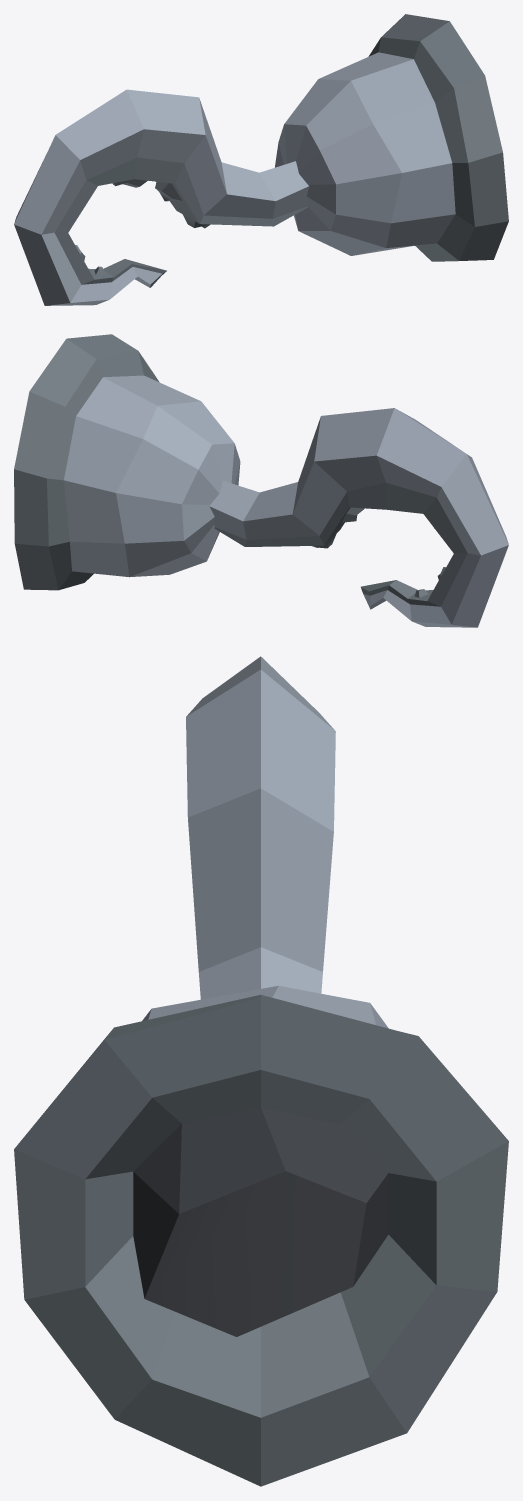
Rendered from SM_Chr_Attach_Hook_01.fbx.
The picture shows the model from 3 angles, top to bottom: view 1: azimuth 30°, elevation 25°; view 2: azimuth 150°, elevation 25°; view 3: azimuth 270°, elevation 25°; orthographic projection. The views are drawn at different scales.
Parts seen in each view (by area): view 1: SM_Chr_Attach_Hook_01; view 2: SM_Chr_Attach_Hook_01; view 3: SM_Chr_Attach_Hook_01.
Part boxes in pixels (<box>): SM_Chr_Attach_Hook_01: <box>14,14,508,305</box>; SM_Chr_Attach_Hook_01: <box>14,334,508,627</box>; SM_Chr_Attach_Hook_01: <box>14,656,508,1486</box>.
Size of the model in its own units: 34.74 by 17.62 by 15.98.
